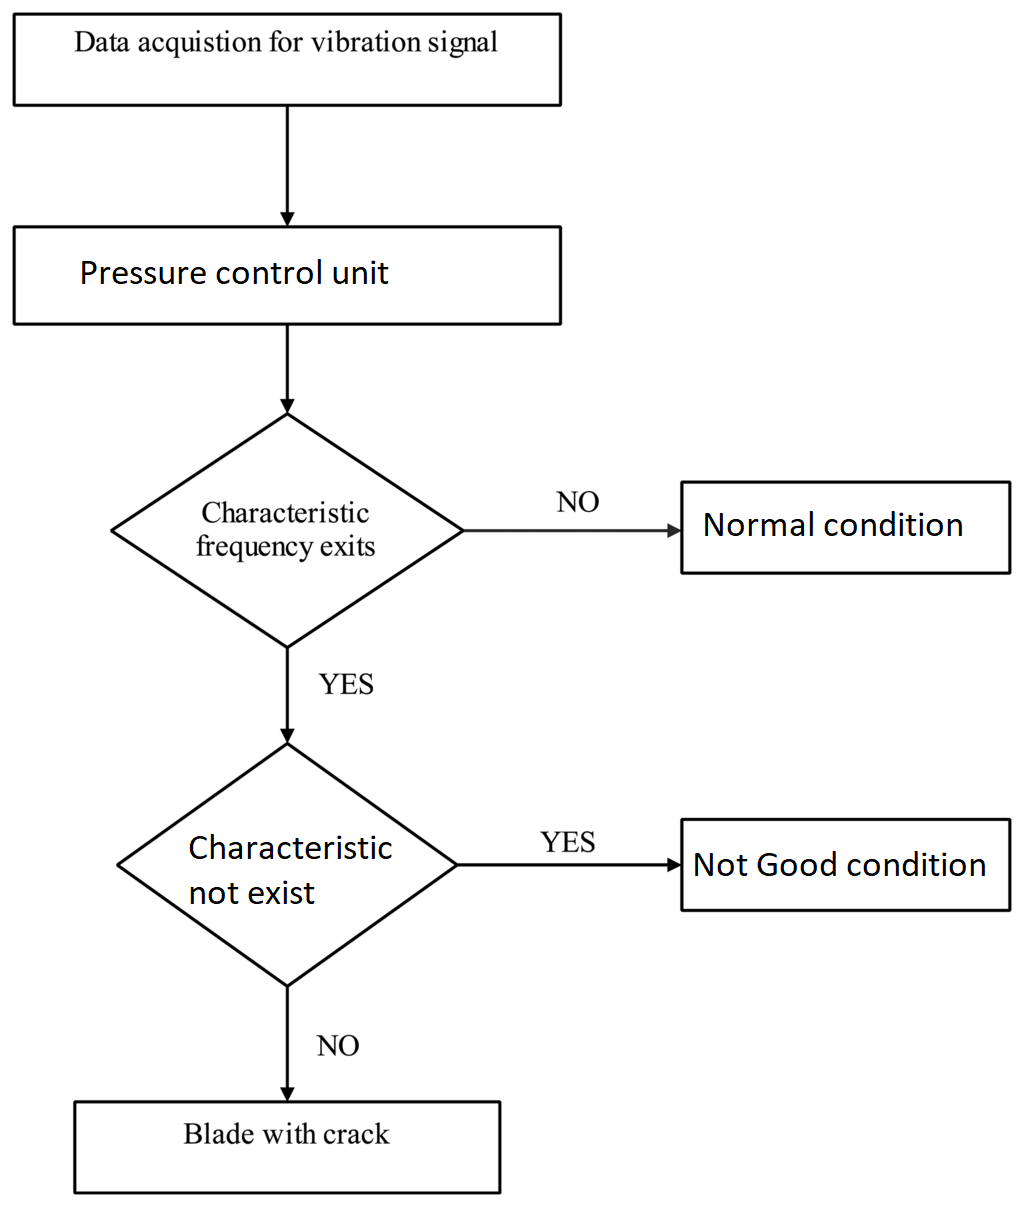arrow: (458, 519, 689, 539), (272, 105, 300, 229), (448, 857, 682, 872), (272, 640, 303, 749), (274, 980, 301, 1102), (274, 326, 297, 420)
decision: (105, 412, 466, 653), (118, 736, 460, 990)
process: (8, 221, 567, 329), (6, 8, 569, 110), (68, 1091, 510, 1199), (674, 475, 1017, 583), (674, 815, 1017, 915)
text: (184, 828, 398, 906), (72, 24, 500, 59), (194, 496, 384, 566), (77, 252, 392, 287), (689, 849, 984, 881), (701, 508, 973, 542), (174, 1115, 391, 1155), (314, 665, 385, 701), (535, 820, 599, 857), (545, 484, 607, 518), (312, 1025, 363, 1060)
